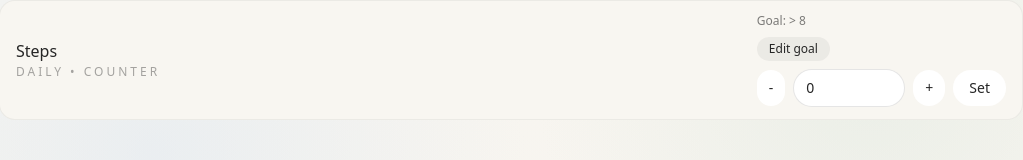
Test: HabitRow counter goals › renders and edits a configured counter goal
expect the text "Goal: > 8" is shown: met, box [757, 12, 806, 29]
Click the button "Edit goal" at (793, 49), box [757, 37, 830, 61]
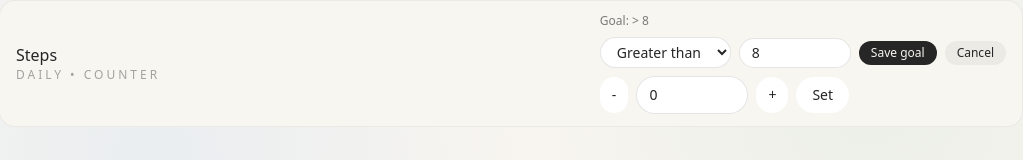
Replace the text in the field named "Edit counter goal value" with "10" at (795, 52), box [739, 38, 851, 68]
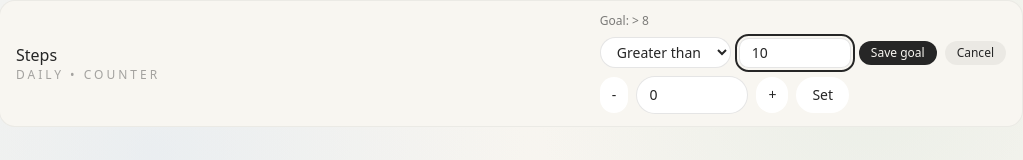
Click the button "Save goal" at (898, 52), box [859, 40, 937, 64]
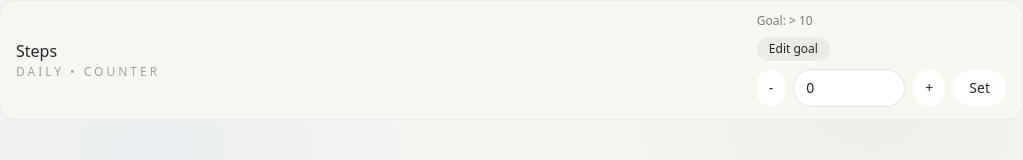
expect the text "Goal: > 10" is shown: met, box [757, 12, 813, 29]
